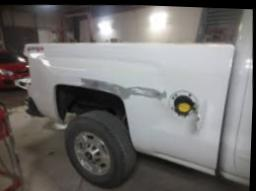Fender: (75, 75, 171, 104)
